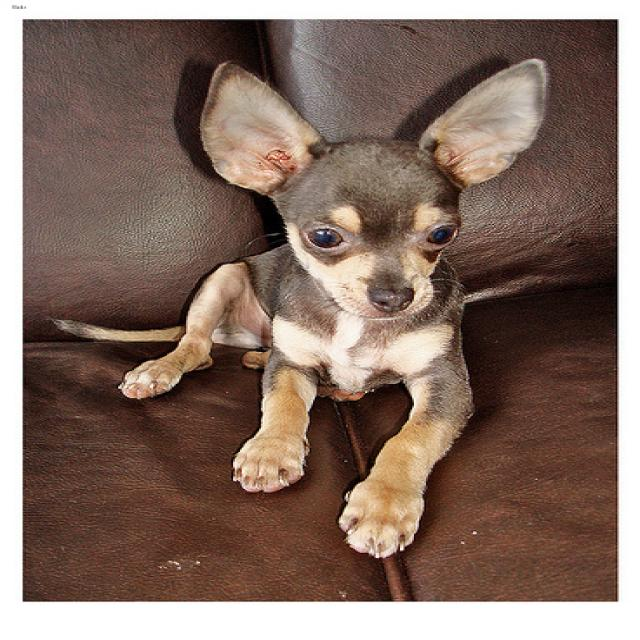dog-chihuahua: (38, 49, 558, 563)
